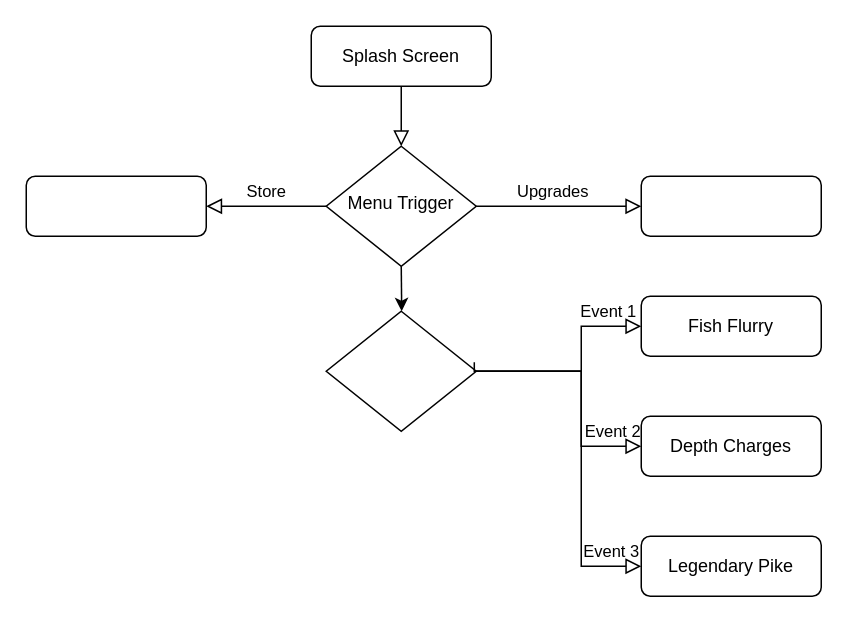
This 848x623 diagram has some shape labels left out. Here are the shapes that lost their labels. From the top down, the centre of each, then its label:
At pixel 115 205: "Zel Shop".
At pixel 730 205: "Upgrade Store".
At pixel 400 370: "Event 1 Trigger".
